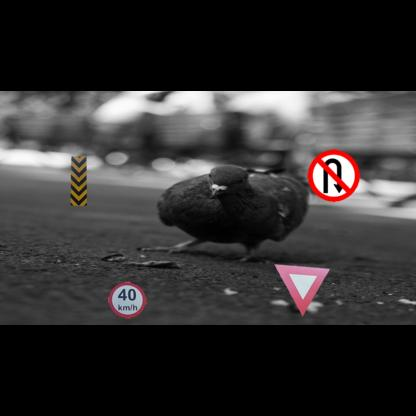O-MP: (71, 156, 87, 206)
R-19: (108, 282, 146, 318)
R-2: (274, 264, 330, 316)
